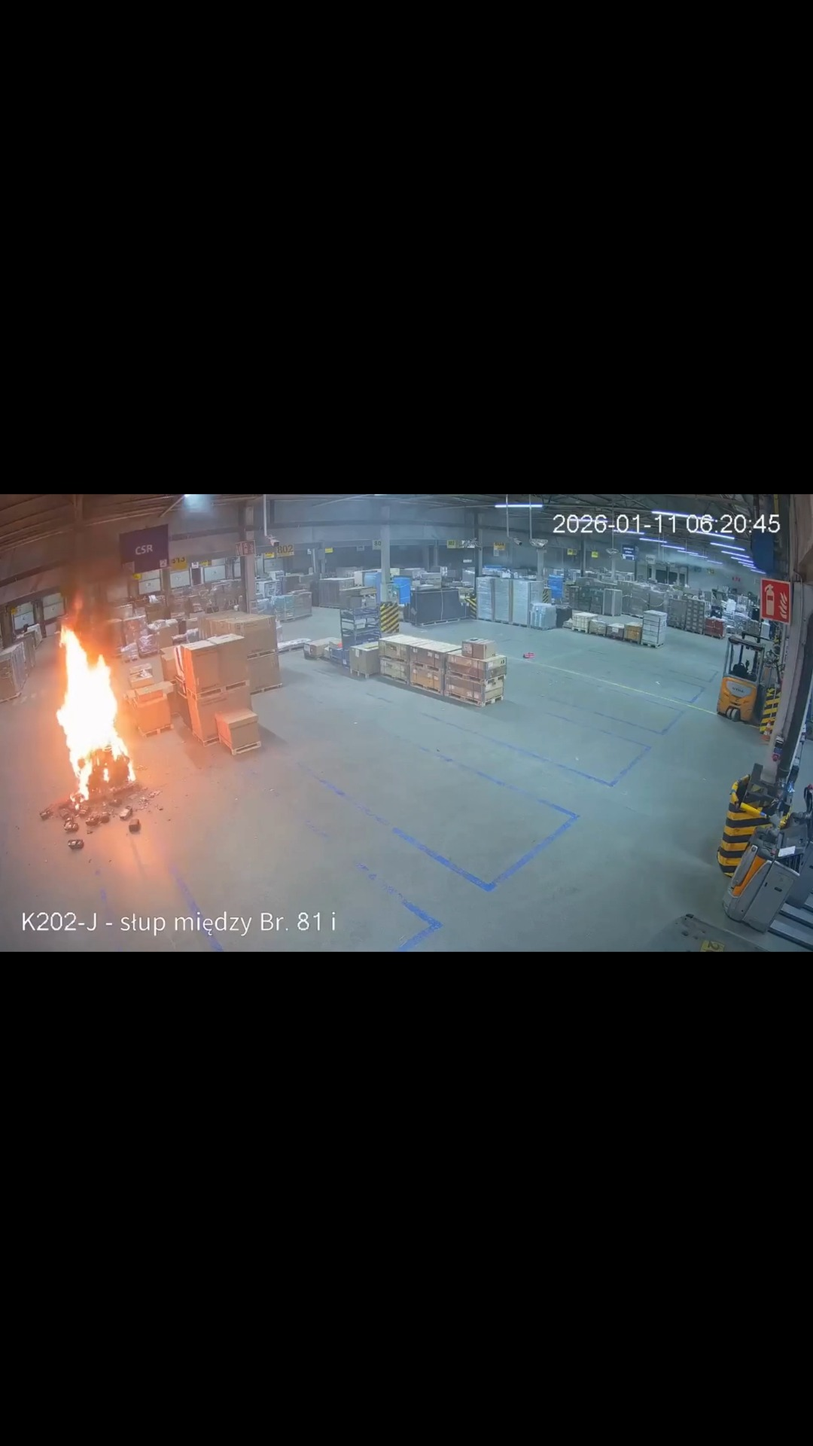fire: (56, 605, 139, 810)
smoke: (37, 495, 168, 667)
